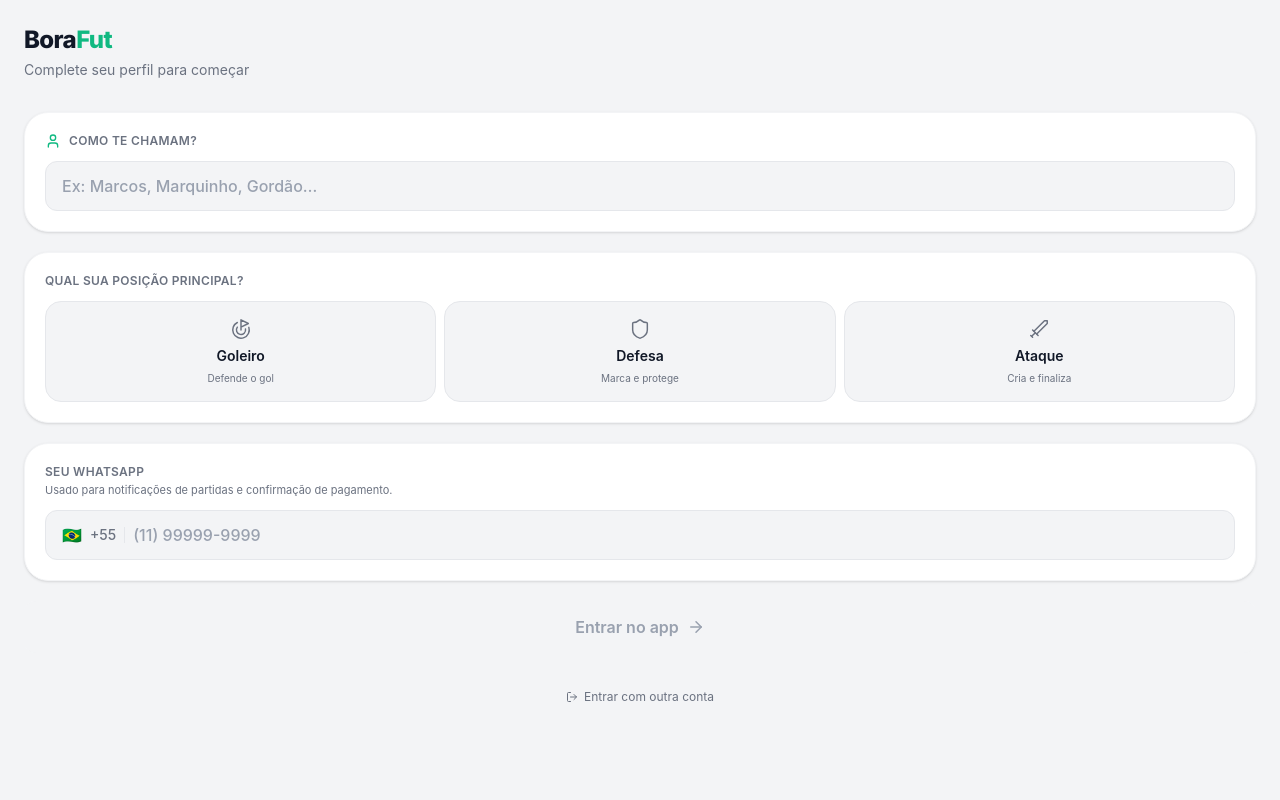
Onboarding Component › enables submit button only when form is fully valid
Expected: the button "Entrar no app" is disabled, [24,601,1256,653]
Note: Enter Name
In the field with placeholder "Ex: Marcos, Marquinho, Gordão…": (640, 186) [45,161,1235,211], type "Marcos"
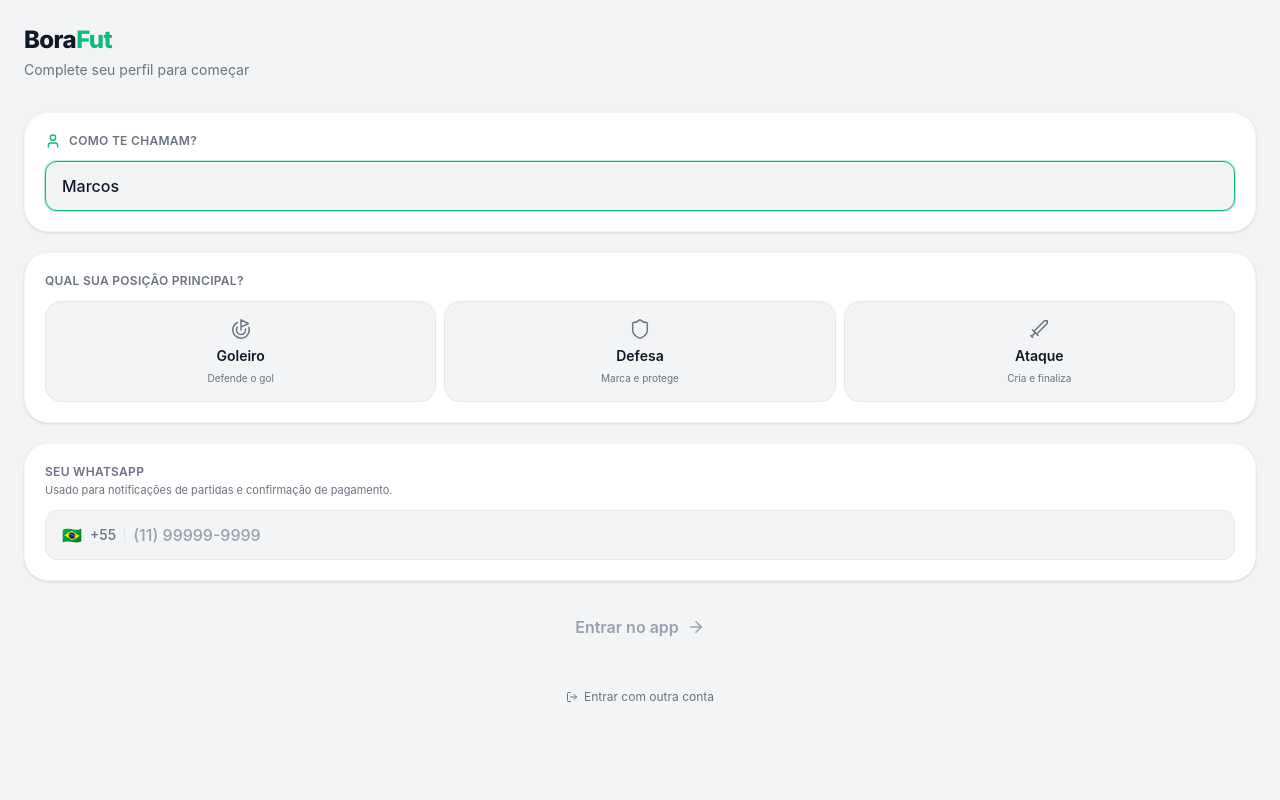
Expected: the button "Entrar no app" is disabled, [24,601,1256,653]
Note: Select Position
Click the text "Ataque": (1039, 356) [1015,346,1064,366]
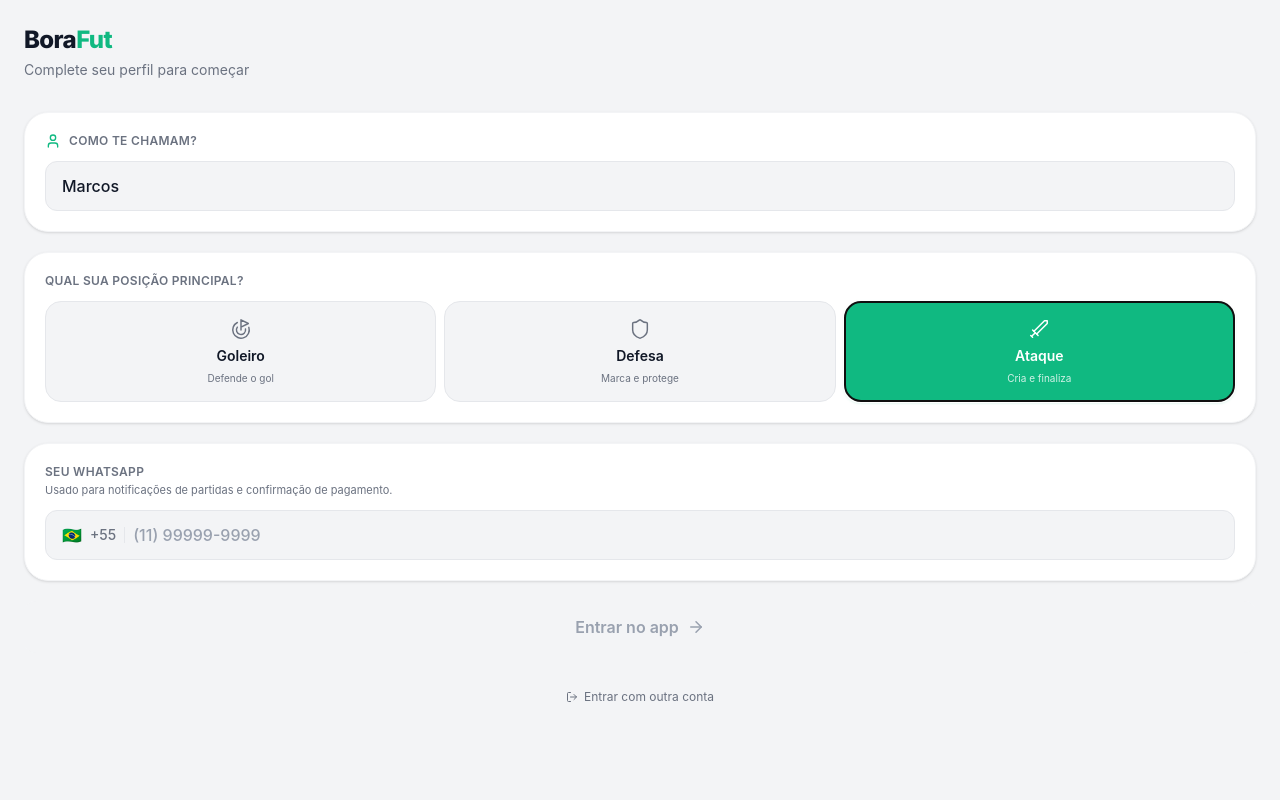
Expected: the button "Entrar no app" is disabled, [24,601,1256,653]
Note: Enter Valid Phone
In the field with placeholder "(11) 99999-9999": (676, 535) [133,523,1218,547], type "11988887777"
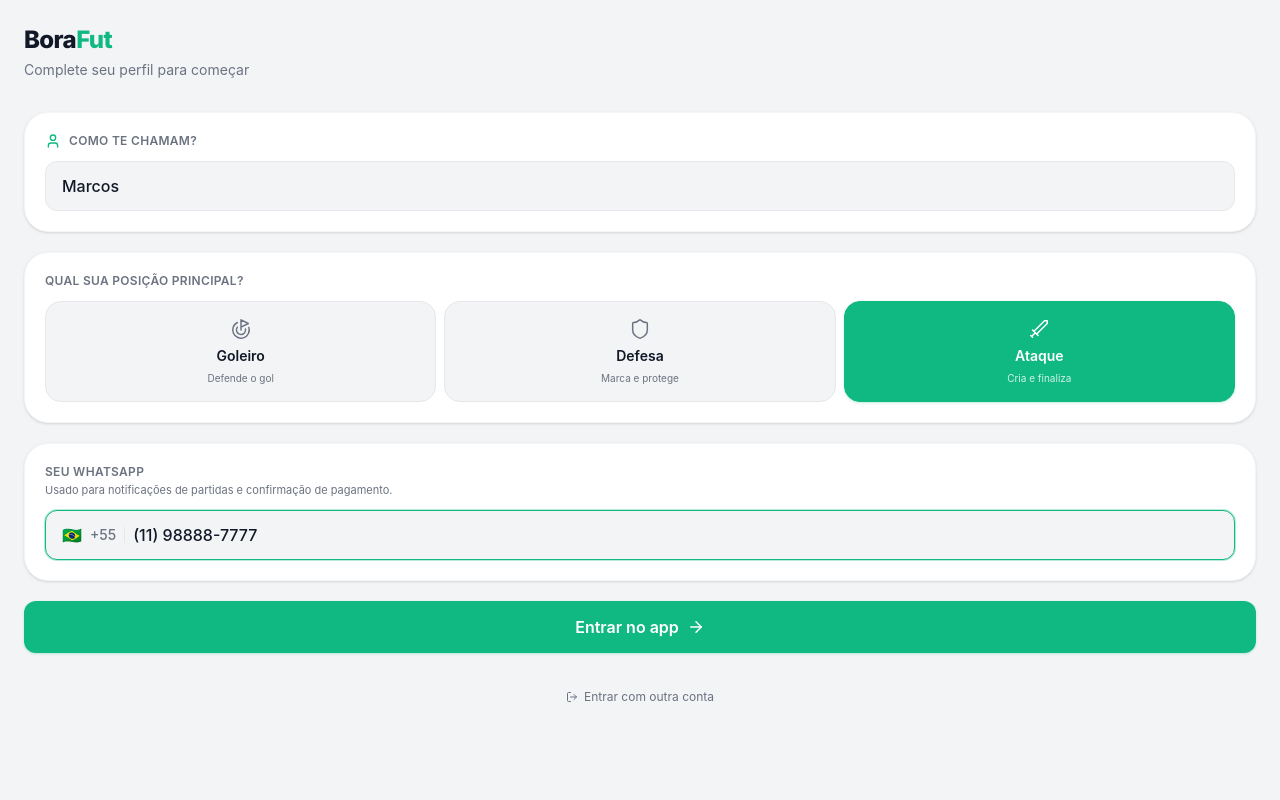
Result: the button "Entrar no app" is enabled at [24,601,1256,653]
